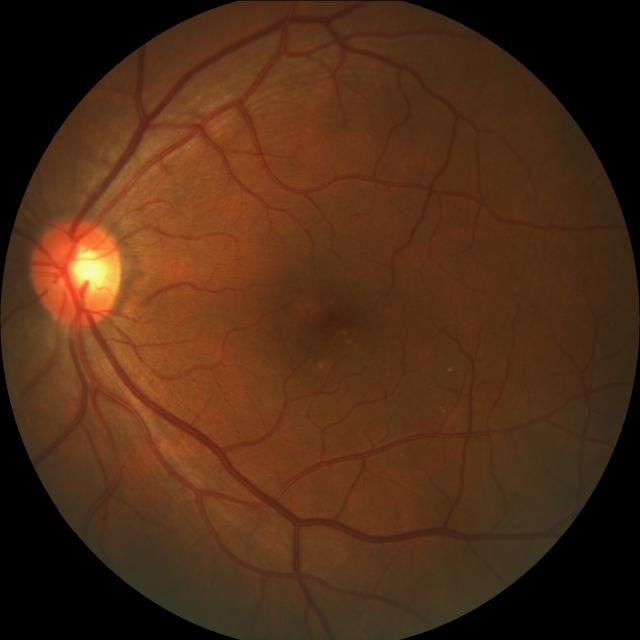OC: (60, 246, 110, 296)
OD: (32, 218, 125, 325)
